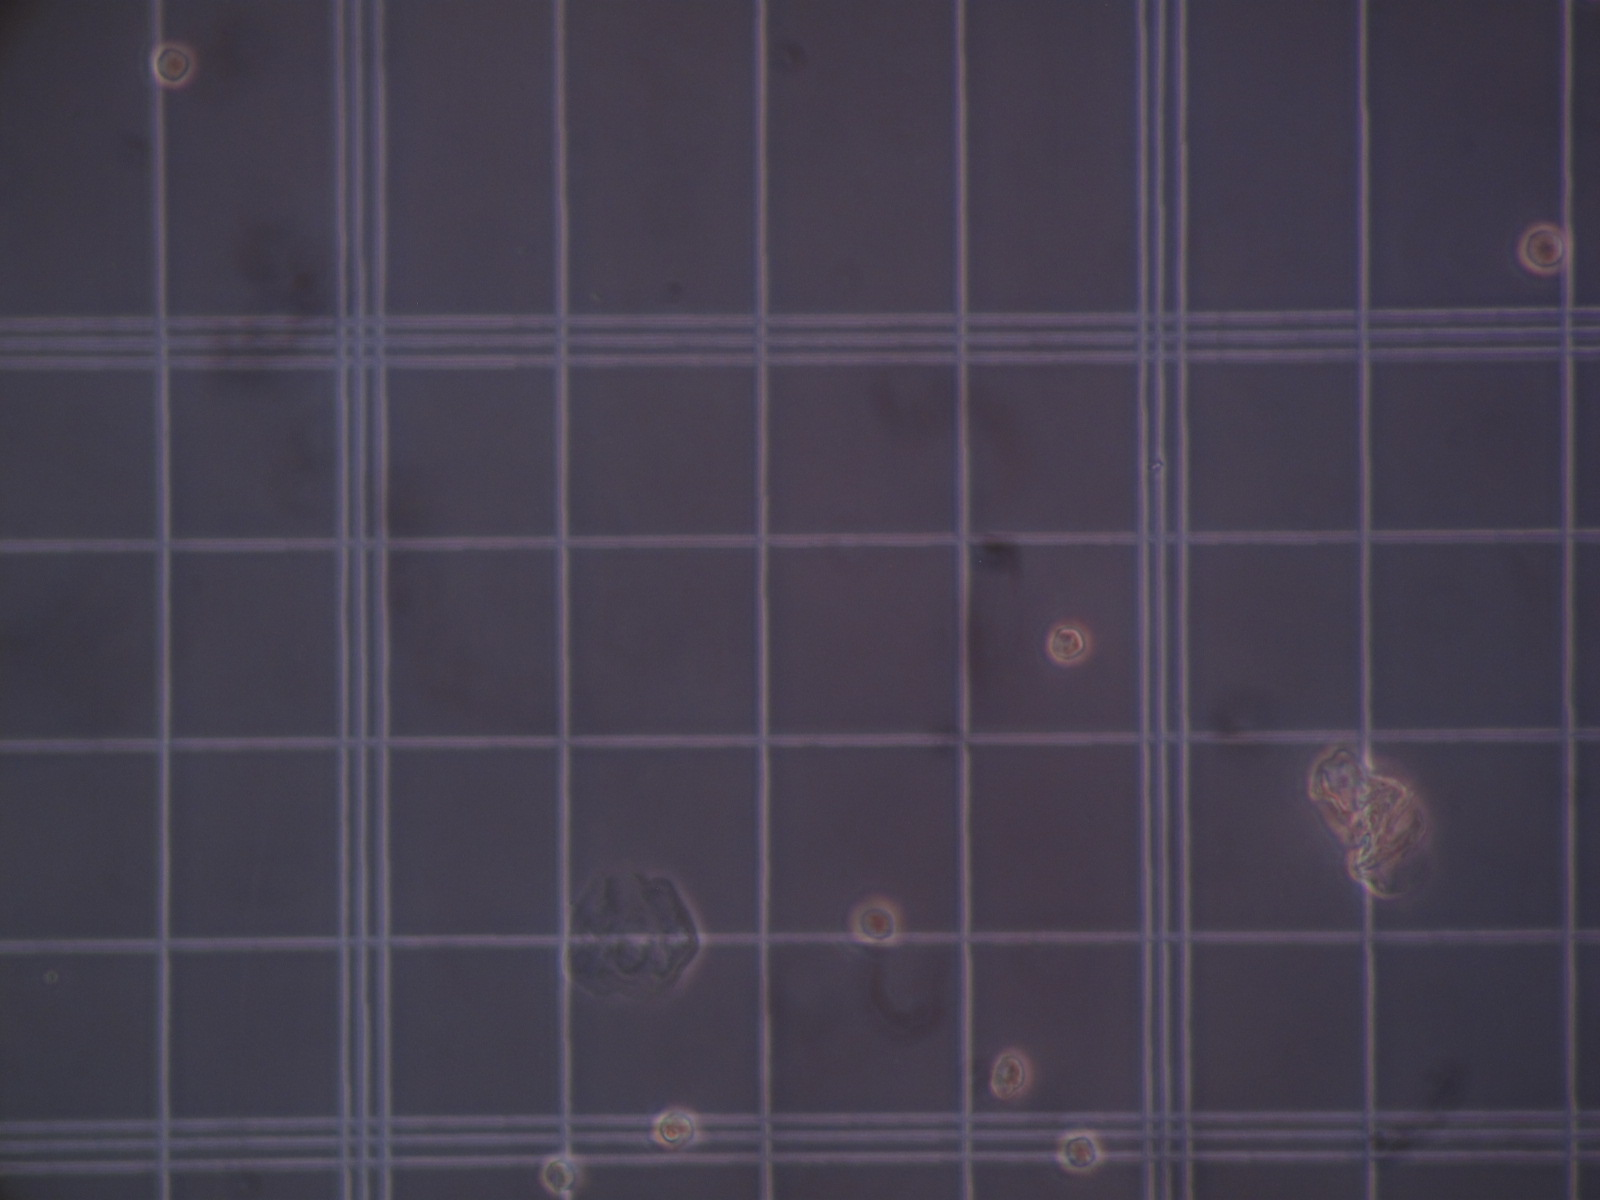hemo: (1518, 222, 1572, 275), (849, 896, 901, 947), (990, 1047, 1032, 1100), (1046, 619, 1092, 666), (651, 1105, 700, 1150), (151, 42, 197, 88), (1056, 1129, 1104, 1174), (539, 1155, 585, 1196)
